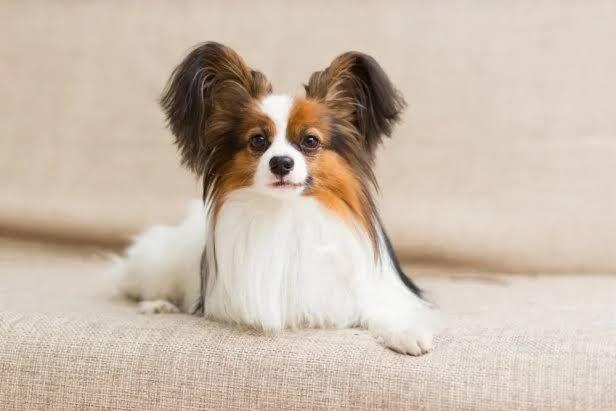adult_dog: (97, 40, 442, 356)
